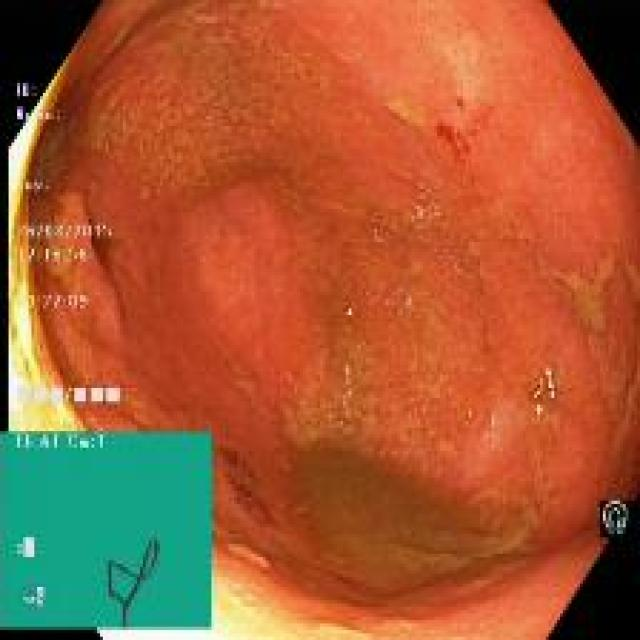ulcerative-colitis-grade-1: (31, 4, 640, 607)
